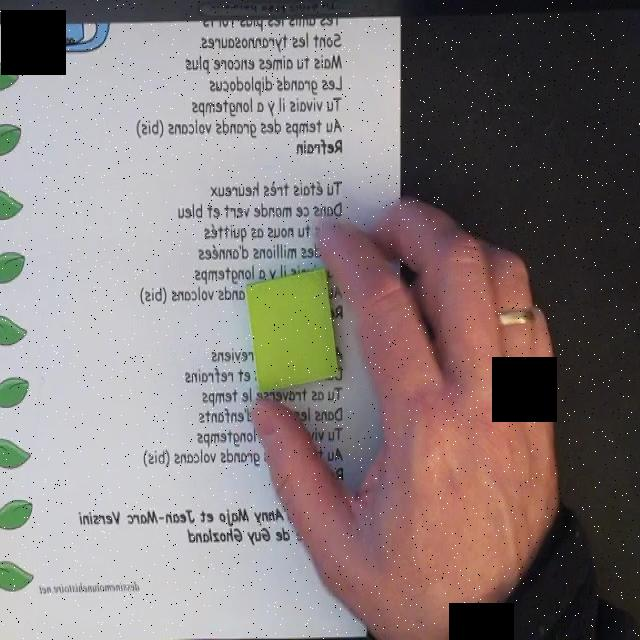square: (245, 268, 339, 392)
